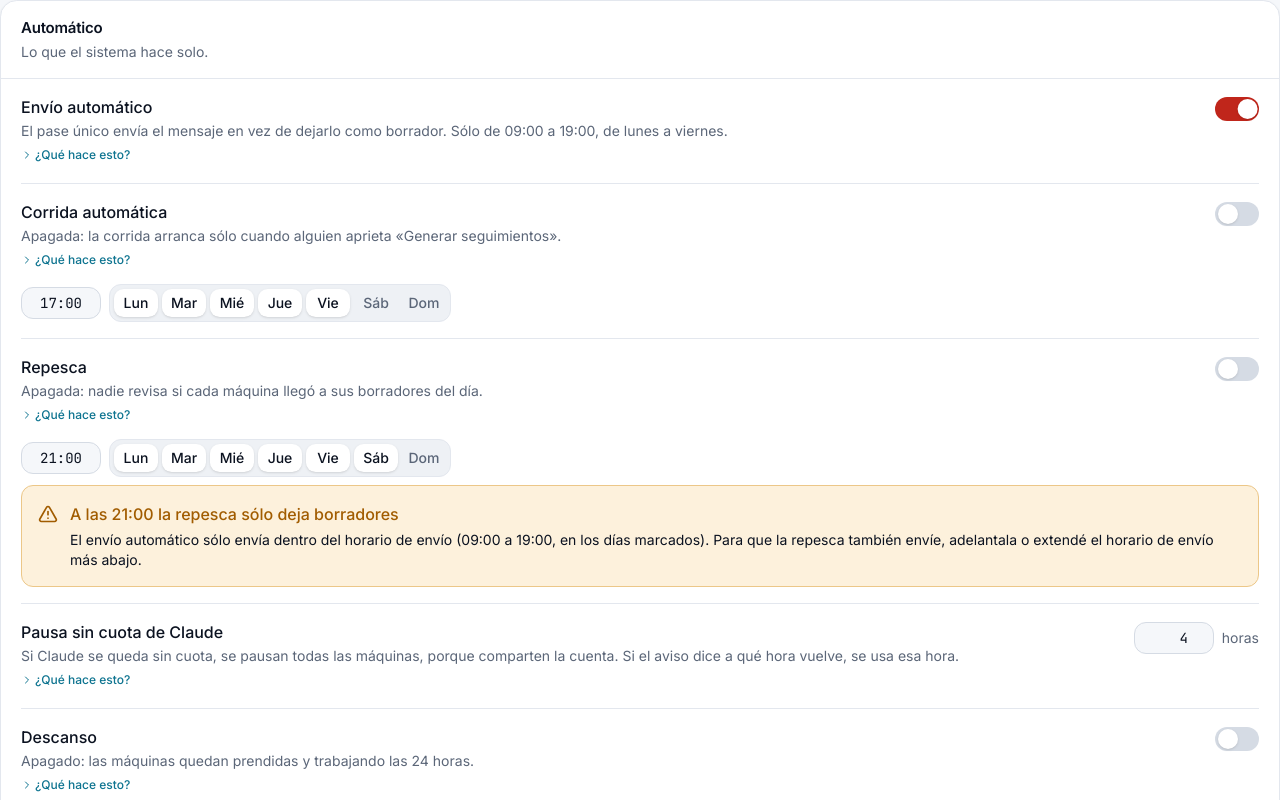
Test case: envío automático › apagar no pide nada, y no ofrece deshacer (deshacer sería prender sin diálogo)
This screenshot has width=1280, height=800.
Click the switch named "envío automático".
click(1237, 108)  # box [1215,96,1259,120]
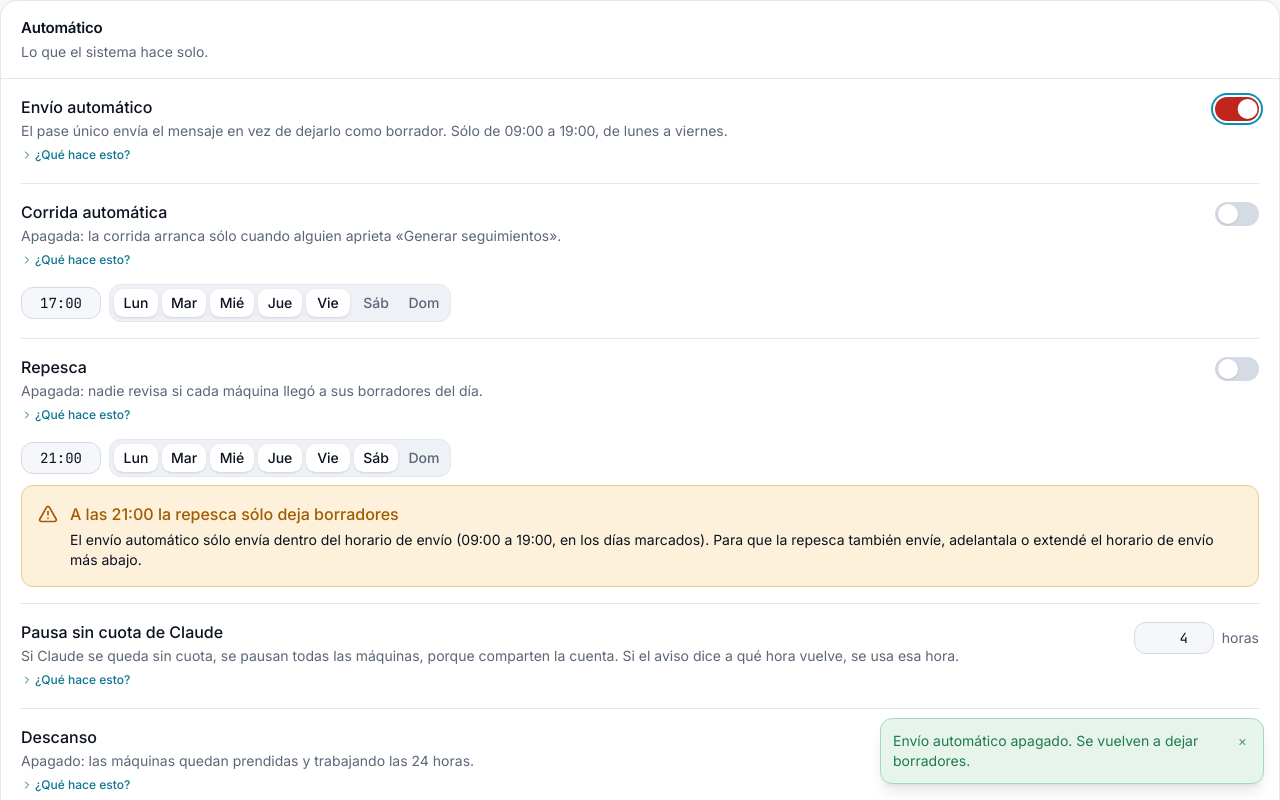
Expected: the text "Envío automático apagado. Se vuelven a dejar borradores." is shown, [893,731,1222,771]
